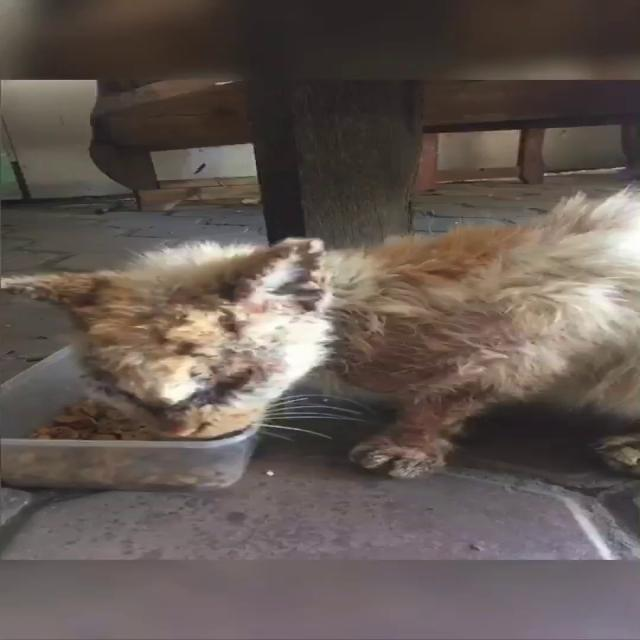ghe: (126, 228, 332, 354)
